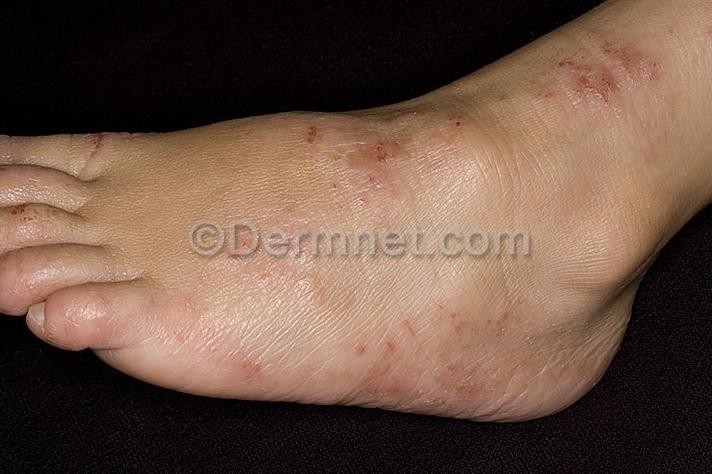edema 1: (90, 300, 622, 421), (146, 95, 405, 263)
excoriacion 1: (292, 110, 496, 207), (346, 312, 502, 400), (526, 37, 668, 104)
exudacion 1: (343, 310, 510, 407), (302, 120, 405, 185), (555, 41, 640, 104)
